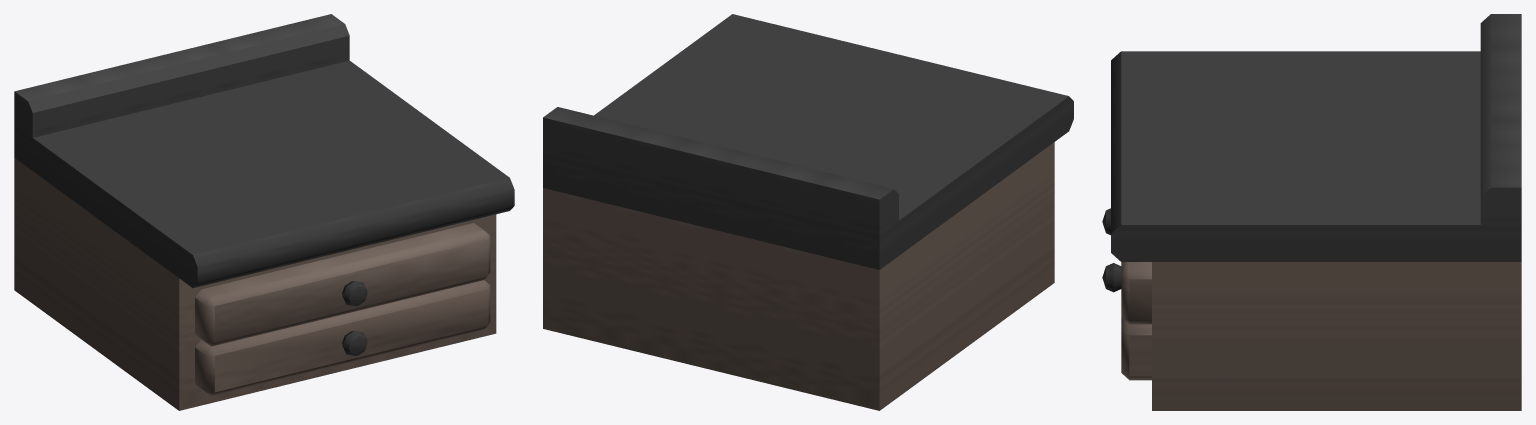
The model's file is kitchencounter_straight_A_backsplash_styleB.gltf.
The picture shows the model from 3 angles, left to right: view 1: azimuth 30°, elevation 25°; view 2: azimuth 150°, elevation 25°; view 3: azimuth 270°, elevation 25°; orthographic projection. The views are drawn at different scales.
Visible parts, largest first — view 1: kitchencounter_straight_A_backsplash_styleB; view 2: kitchencounter_straight_A_backsplash_styleB; view 3: kitchencounter_straight_A_backsplash_styleB.
Boxes of the visible parts, bbox=[...] form: kitchencounter_straight_A_backsplash_styleB: bbox=[14, 14, 514, 410]; kitchencounter_straight_A_backsplash_styleB: bbox=[543, 14, 1073, 410]; kitchencounter_straight_A_backsplash_styleB: bbox=[1102, 14, 1521, 410].
Bounding box in the file's own units: 2 × 1.2 × 2.04.
Materials: 1 (1 with a texture image).
